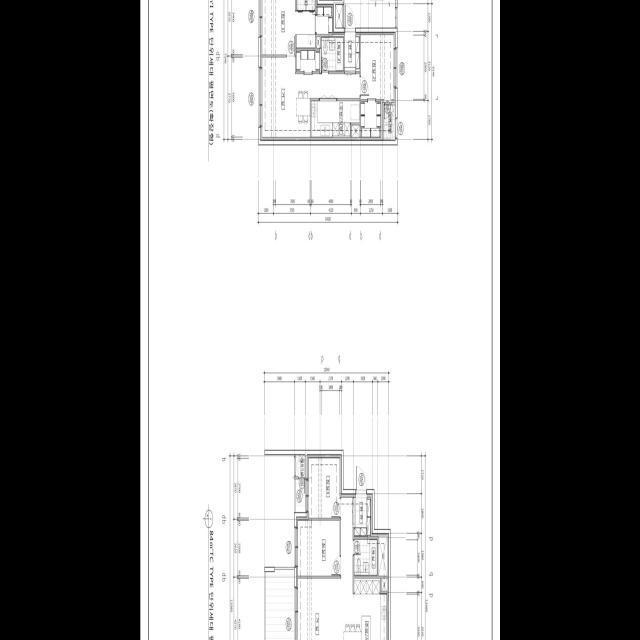background: (140, 0, 500, 640)
space_bedroom: (360, 33, 395, 103), (296, 520, 339, 576), (260, 0, 295, 55), (307, 458, 339, 518)
space_dressroom: (360, 102, 382, 140), (295, 11, 315, 48), (316, 5, 333, 34)
space_elevator_hall: (344, 0, 395, 28)
space_front: (354, 494, 370, 537), (344, 32, 359, 71)
space_kitchen: (343, 578, 386, 640), (311, 101, 359, 140)
space_living_room: (296, 497, 354, 640), (260, 57, 359, 140)
space_other: (296, 50, 319, 72), (378, 537, 387, 576), (335, 5, 342, 28), (351, 125, 359, 140), (381, 579, 387, 591), (316, 37, 320, 48)
space_outdoor_room: (383, 105, 395, 140), (295, 455, 305, 477)
space_toilet: (353, 539, 377, 576), (321, 37, 343, 71), (296, 0, 305, 10), (306, 0, 315, 10)
